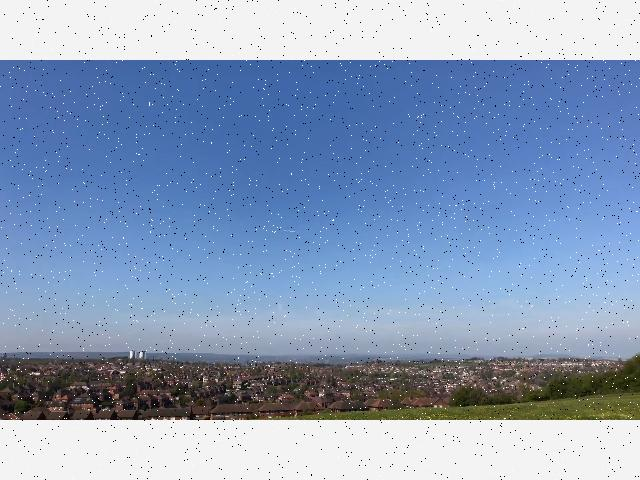Anti-Drone: (280, 224, 302, 238)
